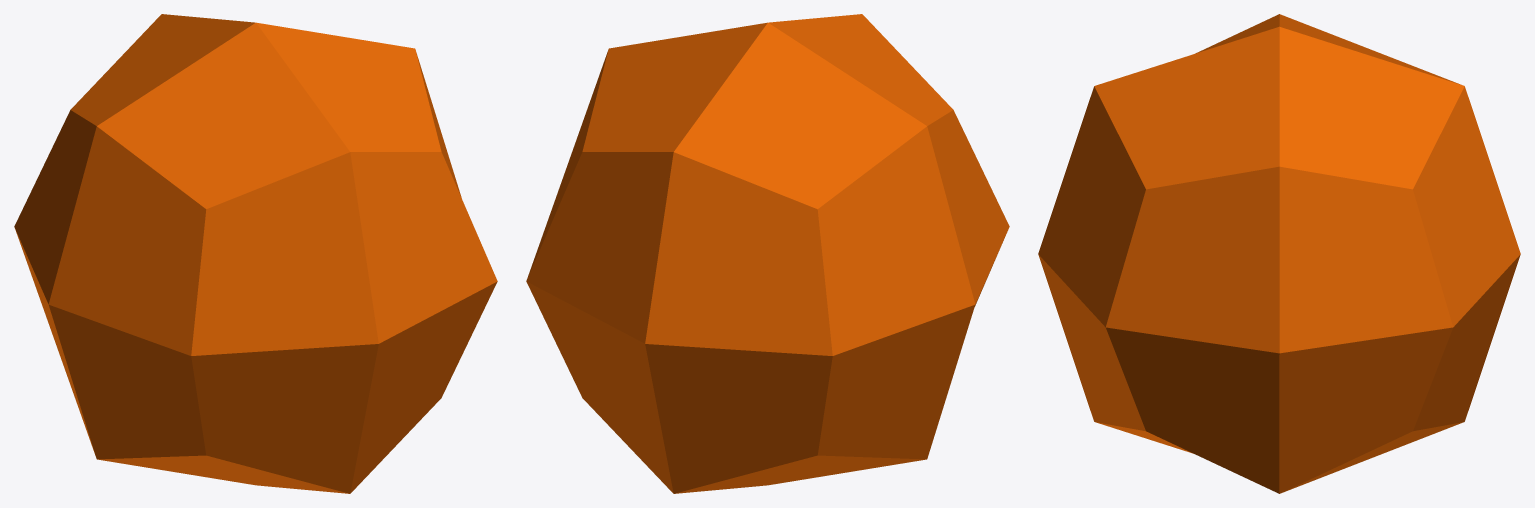
Rendered from TestMaterial1.fbx.
3 views of the same model, side by side, from view 1: azimuth 30°, elevation 25°; view 2: azimuth 150°, elevation 25°; view 3: azimuth 270°, elevation 25° (orthographic).
Parts seen in each view (by area): view 1: Cube; view 2: Cube; view 3: Cube.
Part boxes in pixels (<box>): Cube: <box>14,14,497,493</box>; Cube: <box>526,14,1009,493</box>; Cube: <box>1038,14,1520,493</box>.
Bounding box in the file's own units: 353 × 376 × 362.
